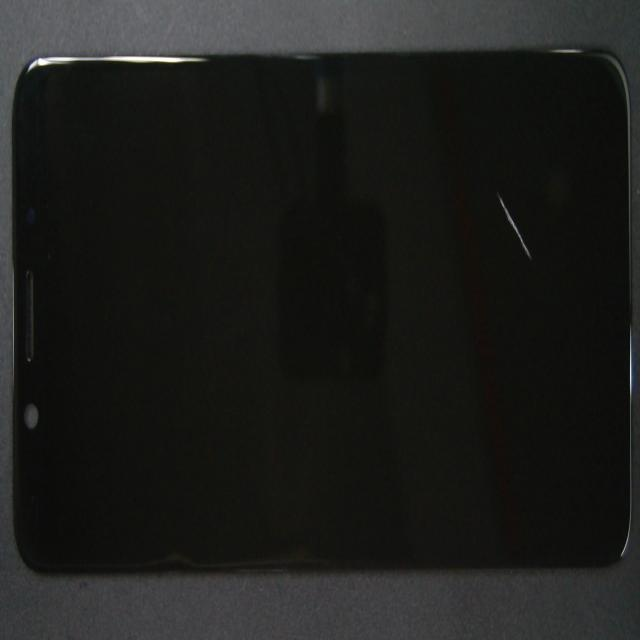scratch: (245, 96, 640, 290)
